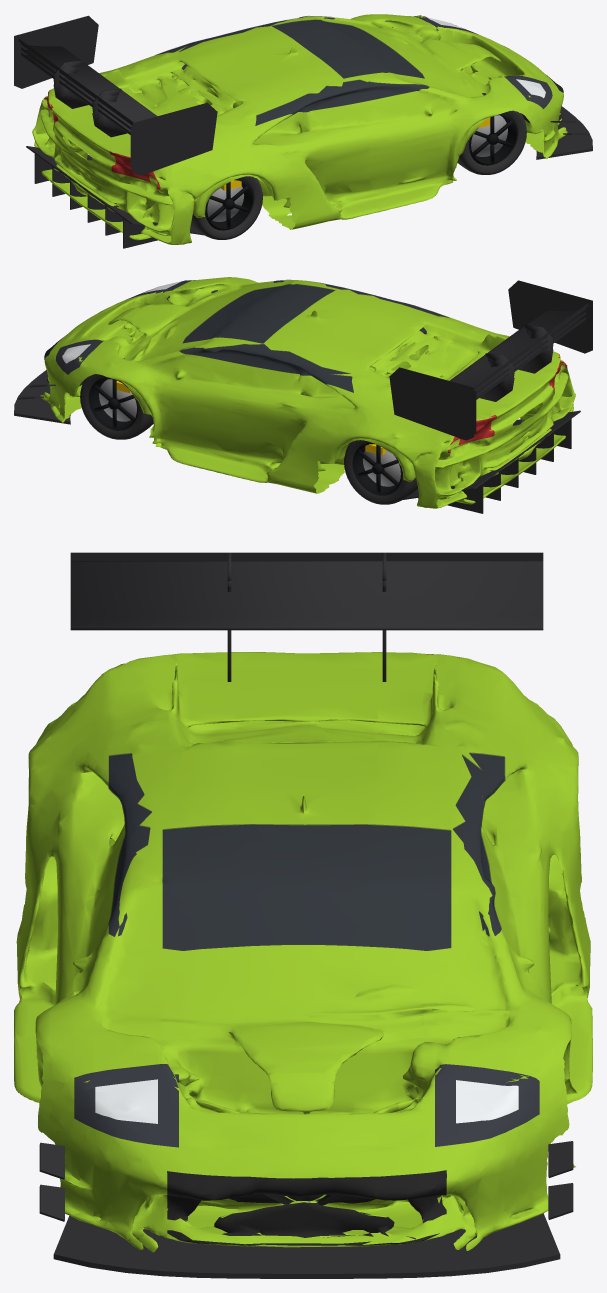
The model's file is lamborghini_huracan_gt3.glb.
3 views of the same model, one above another, from view 1: azimuth 30°, elevation 25°; view 2: azimuth 150°, elevation 25°; view 3: azimuth 270°, elevation 25° (orthographic). The views are drawn at different scales.
Parts seen in each view (by area): view 1: body, bumper_rear, wing_rear_up3, cabin, bumper_front, wheel_fr_spin, wing_rear_up2, wheel_rr_spin, wing_rear, diffuser, splitter_up, splitter; view 2: body, bumper_rear, wing_rear_up3, cabin, bumper_front, wheel_fl_spin, wheel_rl_spin, wing_rear_up2, diffuser, wing_rear, splitter_up, splitter; view 3: body, bumper_front, cabin, wing_rear_up3, splitter_up, bumper_rear, splitter, canards.
Boxes of the visible parts, left/top/right/bottom form: body: left=68, top=14, right=543, bottom=244; bumper_rear: left=32, top=88, right=189, bottom=244; wing_rear_up3: left=14, top=15, right=217, bottom=175; cabin: left=157, top=16, right=429, bottom=125; bumper_front: left=430, top=18, right=567, bottom=158; wheel_fr_spin: left=457, top=93, right=526, bottom=174; wing_rear_up2: left=16, top=25, right=132, bottom=168; wheel_rr_spin: left=191, top=176, right=262, bottom=239; wing_rear: left=16, top=32, right=132, bottom=166; diffuser: left=26, top=146, right=203, bottom=248; splitter_up: left=536, top=106, right=592, bottom=159; splitter: left=537, top=111, right=584, bottom=154; body: left=58, top=277, right=532, bottom=507; bumper_rear: left=419, top=351, right=575, bottom=508; wing_rear_up3: left=389, top=280, right=592, bottom=440; cabin: left=179, top=279, right=449, bottom=392; bumper_front: left=40, top=282, right=176, bottom=422; wheel_fl_spin: left=80, top=358, right=153, bottom=439; wheel_rl_spin: left=344, top=440, right=417, bottom=504; wing_rear_up2: left=474, top=290, right=590, bottom=433; diffuser: left=403, top=410, right=580, bottom=513; wing_rear: left=474, top=297, right=590, bottom=431; splitter_up: left=14, top=370, right=70, bottom=424; splitter: left=21, top=374, right=69, bottom=419; body: left=14, top=662, right=592, bottom=1167; bumper_front: left=53, top=1072, right=550, bottom=1252; cabin: left=108, top=752, right=505, bottom=950; wing_rear_up3: left=70, top=552, right=543, bottom=681; splitter_up: left=53, top=1213, right=560, bottom=1278; bumper_rear: left=36, top=652, right=572, bottom=745; splitter: left=66, top=1217, right=550, bottom=1268; canards: left=39, top=1141, right=573, bottom=1221.
Bounding box in the file's own units: 4.72 × 1.37 × 2.49.
